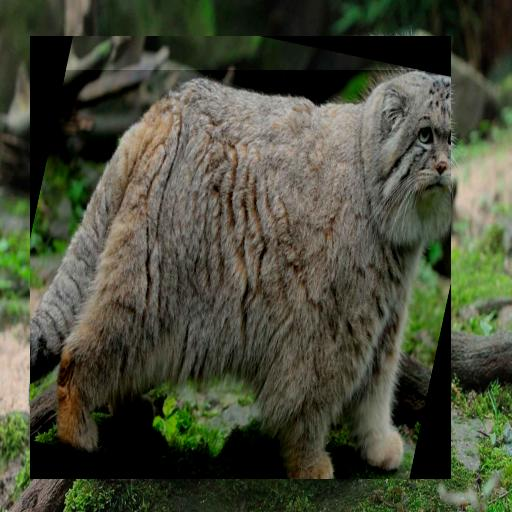manul: (30, 70, 451, 479)
